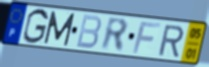B: (74, 14, 103, 51)
F: (131, 21, 163, 56)
G: (21, 8, 50, 46)
M: (43, 10, 77, 47)
R: (100, 16, 129, 54), (157, 24, 185, 58)
